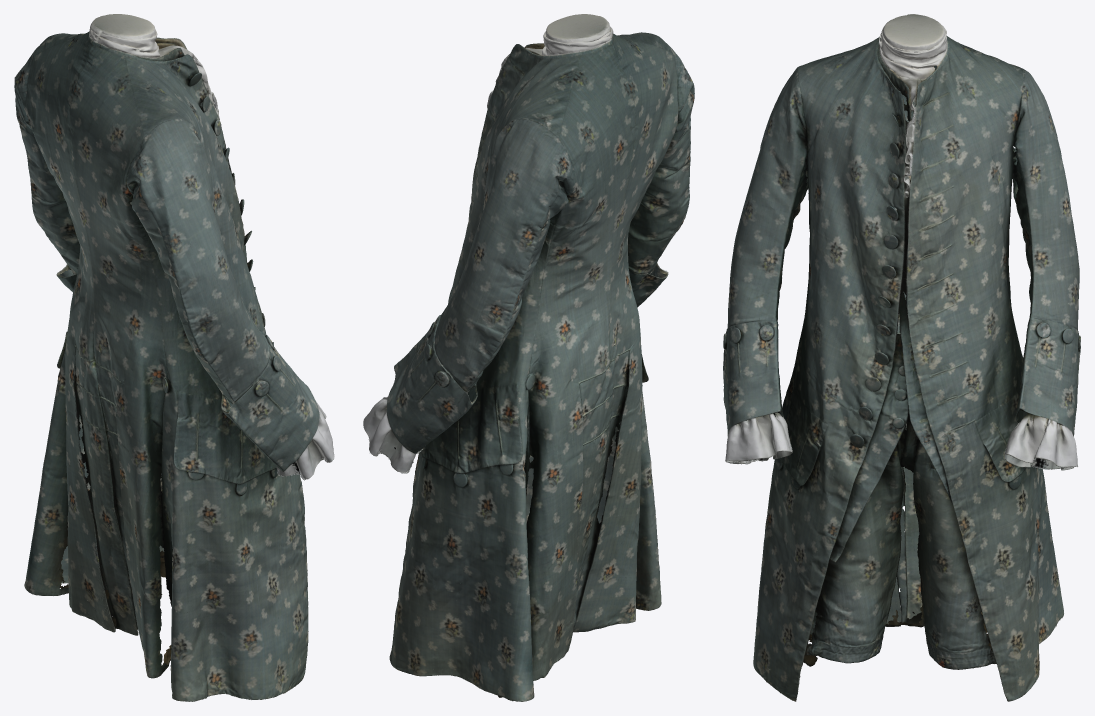
File: kemejawanita.glb
3 views of the same model, side by side, from view 1: azimuth 30°, elevation 25°; view 2: azimuth 150°, elevation 25°; view 3: azimuth 270°, elevation 25° (orthographic). The views are drawn at different scales.
Parts seen in each view (by area): view 1: Model; view 2: Model; view 3: Model.
Boxes of the visible parts, left/top/right/bottom form: Model: left=14, top=14, right=334, bottom=701; Model: left=363, top=14, right=694, bottom=701; Model: left=723, top=14, right=1080, bottom=701.
Size of the model in its own units: 0.6214 by 1.91 by 1.
Materials: 1 (1 with a texture image).
